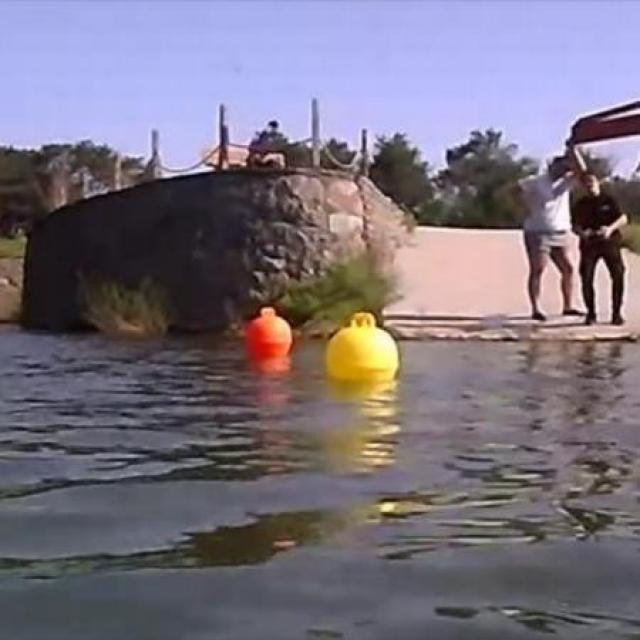buoy: (325, 312, 400, 383), (248, 307, 292, 356)
